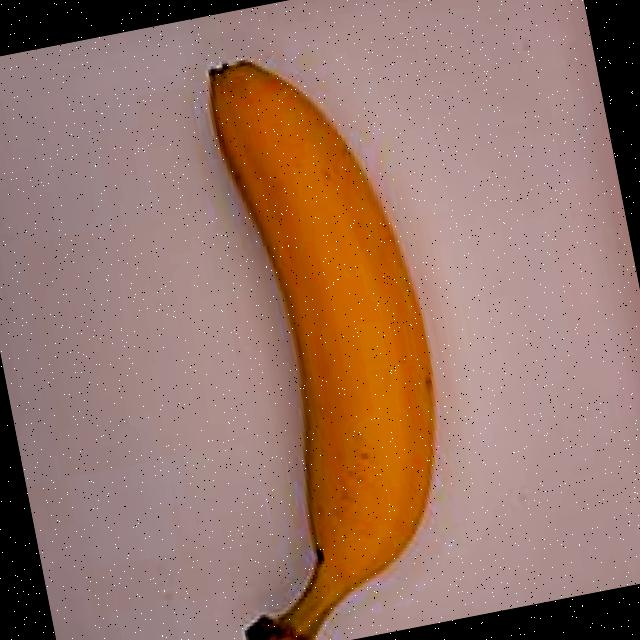Ripe: (90, 11, 503, 640)
